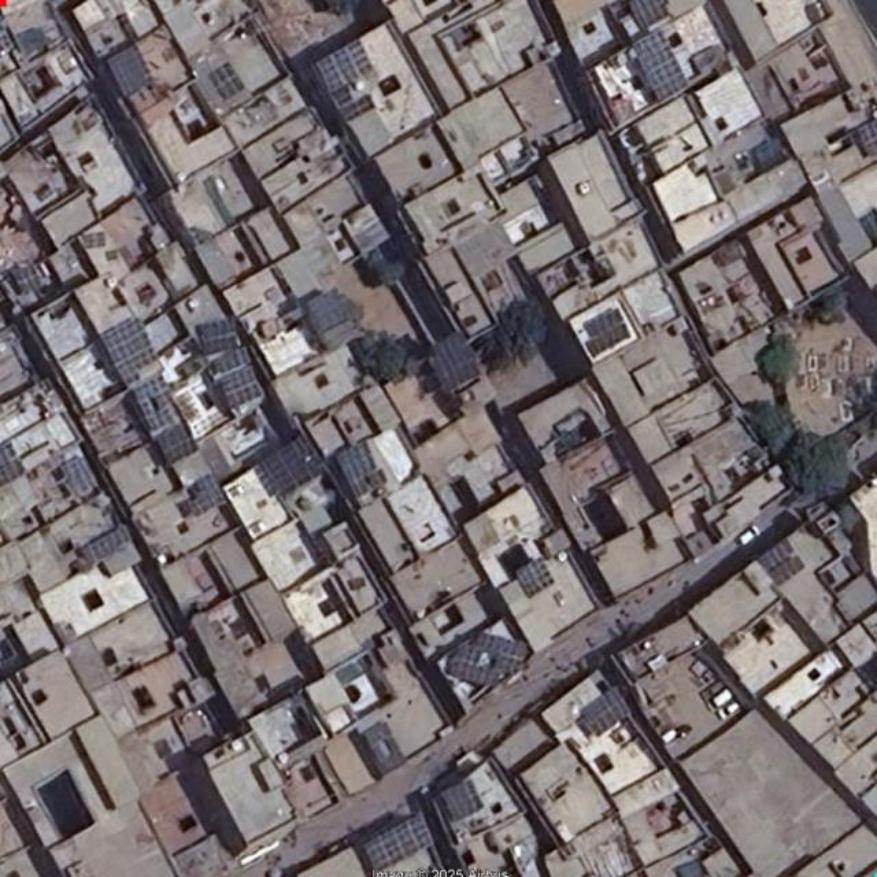Solarpanel: (438, 615, 538, 703), (135, 375, 199, 466), (629, 28, 690, 102), (363, 812, 432, 874), (101, 318, 158, 383), (260, 437, 321, 495), (429, 328, 481, 390), (316, 39, 372, 94), (214, 345, 261, 404), (582, 684, 632, 735), (578, 306, 631, 354), (76, 524, 130, 568), (106, 46, 150, 99), (760, 538, 803, 583), (181, 474, 226, 516), (307, 291, 348, 334), (339, 442, 376, 487), (0, 439, 29, 489), (442, 781, 479, 820), (516, 557, 553, 595), (202, 314, 236, 355), (63, 454, 97, 494), (209, 61, 244, 95), (629, 0, 670, 26), (855, 117, 876, 156)
